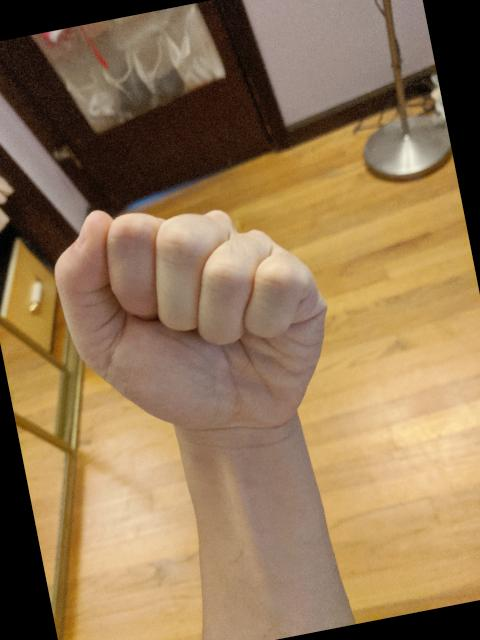A: (34, 161, 354, 479)
